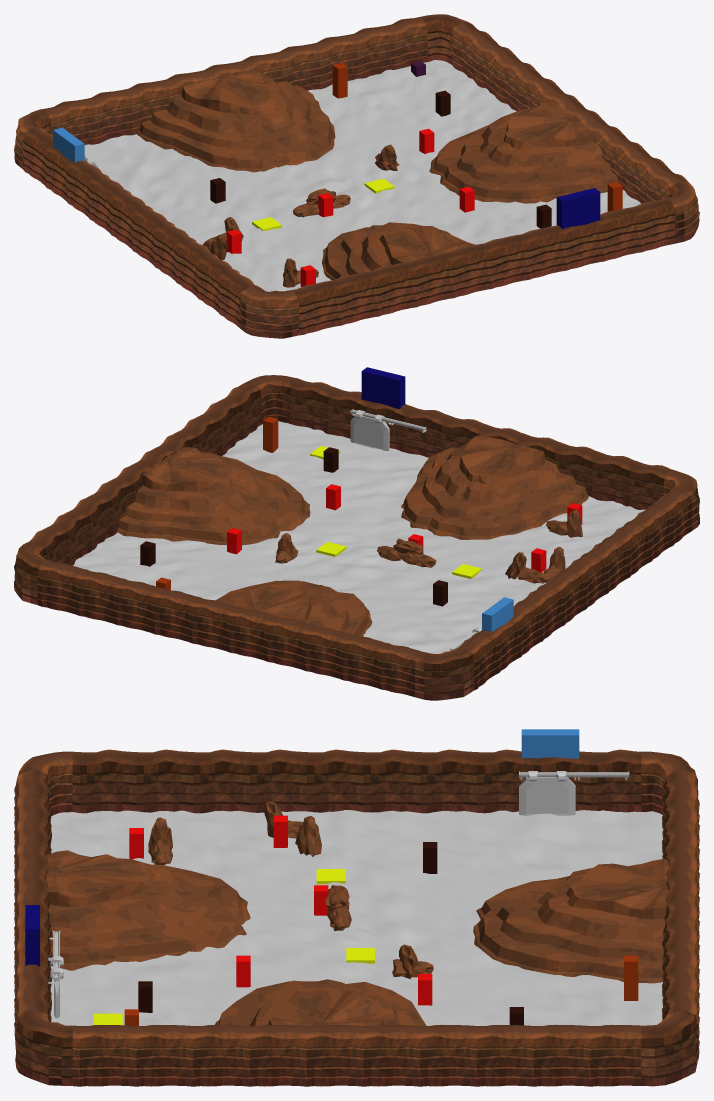
File: level1_b3v3_45_final.FBX
3 views of the same model, one above another, from view 1: azimuth 30°, elevation 25°; view 2: azimuth 150°, elevation 25°; view 3: azimuth 270°, elevation 25° (orthographic). The views are drawn at different scales.
Visible parts, largest first — view 1: level1_wall061, Plane074, Pyramid003, Pyramid002, Pyramid001, Box016, Box015, Box030; view 2: level1_wall061, Plane074, Pyramid001, Pyramid002, Pyramid003, Box016, level1_door001, Box015, Box031; view 3: level1_wall061, Plane074, Pyramid003, Pyramid001, Pyramid002, level1_door, Box015, Box016, GeoSphere009, Box030, level1_doorrail.
Boxes of the visible parts, x1,y1,x2,y2 form: level1_wall061: (14, 14, 699, 338); Plane074: (84, 60, 640, 291); Pyramid003: (136, 70, 335, 172); Pyramid002: (429, 101, 617, 203); Pyramid001: (322, 222, 475, 280); Box016: (556, 188, 600, 229); Box015: (53, 127, 84, 162); Box030: (332, 62, 347, 98); level1_wall061: (14, 375, 699, 700); Plane074: (72, 421, 645, 653); Pyramid001: (401, 435, 588, 539); Pyramid002: (117, 447, 310, 545); Pyramid003: (216, 580, 372, 636); Box016: (361, 367, 405, 408); level1_door001: (350, 410, 389, 451); Box015: (482, 597, 513, 632); Box031: (263, 416, 278, 452); level1_wall061: (14, 749, 699, 1086); Plane074: (50, 810, 663, 1025); Pyramid003: (473, 858, 668, 983); Pyramid001: (46, 850, 250, 970); Pyramid002: (215, 979, 426, 1025); level1_door: (519, 771, 575, 815); Box015: (521, 729, 579, 758); Box016: (25, 905, 39, 966); GeoSphere009: (297, 816, 321, 856); Box030: (624, 955, 638, 1000); level1_doorrail: (519, 771, 629, 780).
Bounding box in the file's own units: 1782 × 265 × 1783.
